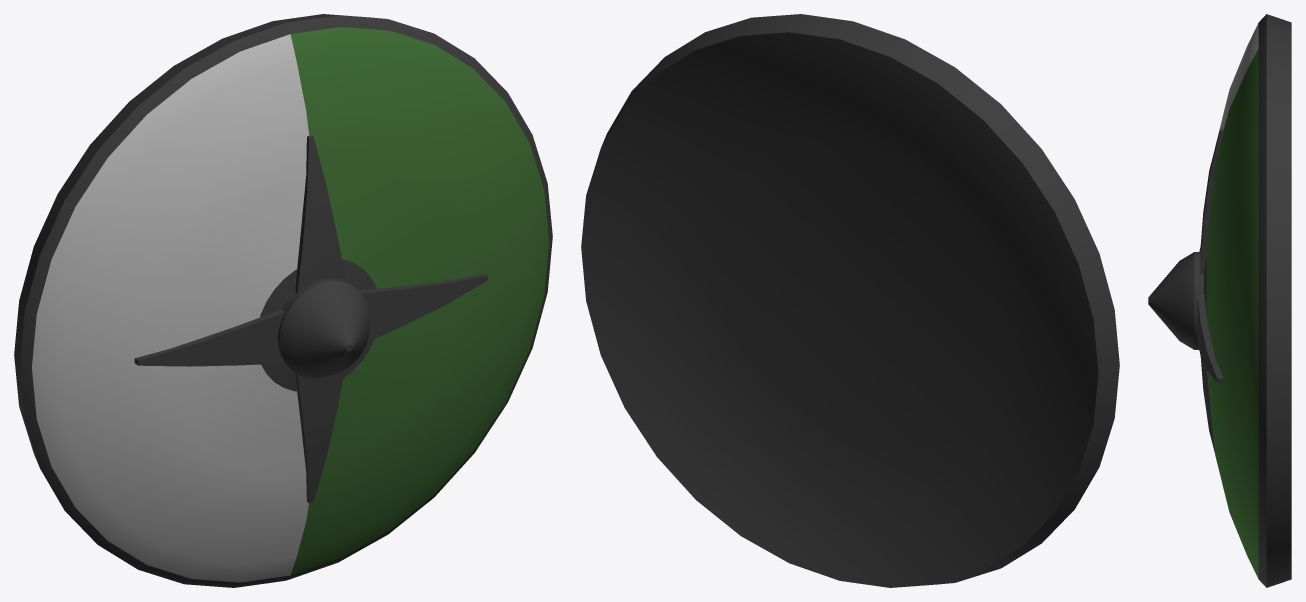
Rendered from shiledRound.fbx.
3 views of the same model, side by side, from view 1: azimuth 30°, elevation 25°; view 2: azimuth 150°, elevation 25°; view 3: azimuth 270°, elevation 25° (orthographic). The views are drawn at different scales.
Parts seen in each view (by area): view 1: Shield - Round; view 2: Shield - Round; view 3: Shield - Round.
Part boxes in pixels (x1,y1,x2,y2): Shield - Round: (14, 14, 552, 587); Shield - Round: (581, 14, 1119, 587); Shield - Round: (1148, 14, 1291, 587).
Bounding box in the file's own units: 49.64 × 12.39 × 49.64.
